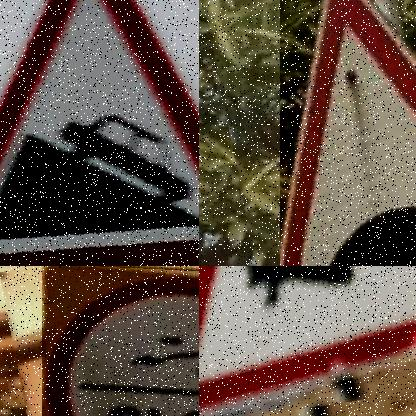Slow: (43, 266, 199, 416)
Speed Breaker Ahead: (283, 0, 416, 266)
Zigzag Road Ahead: (199, 266, 416, 416)
